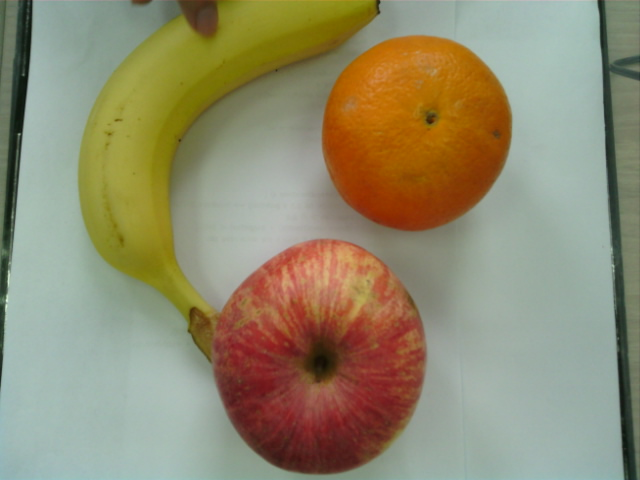normal_apple: (212, 236, 428, 475)
normal_banana: (78, 1, 378, 289)
normal_orange: (324, 36, 515, 229)
